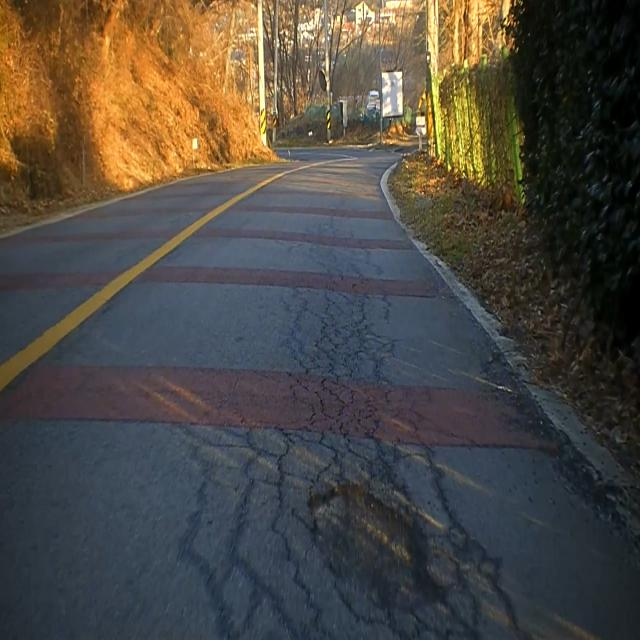Pothole: (298, 470, 452, 633)
